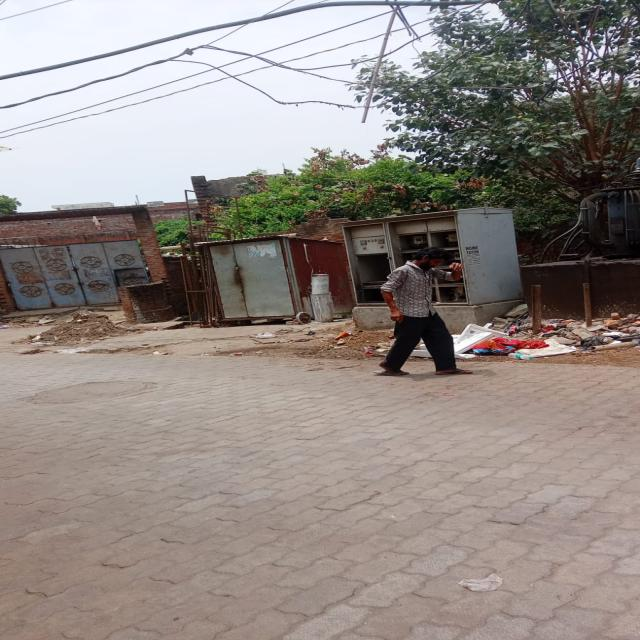Garbage: (454, 309, 629, 357)
